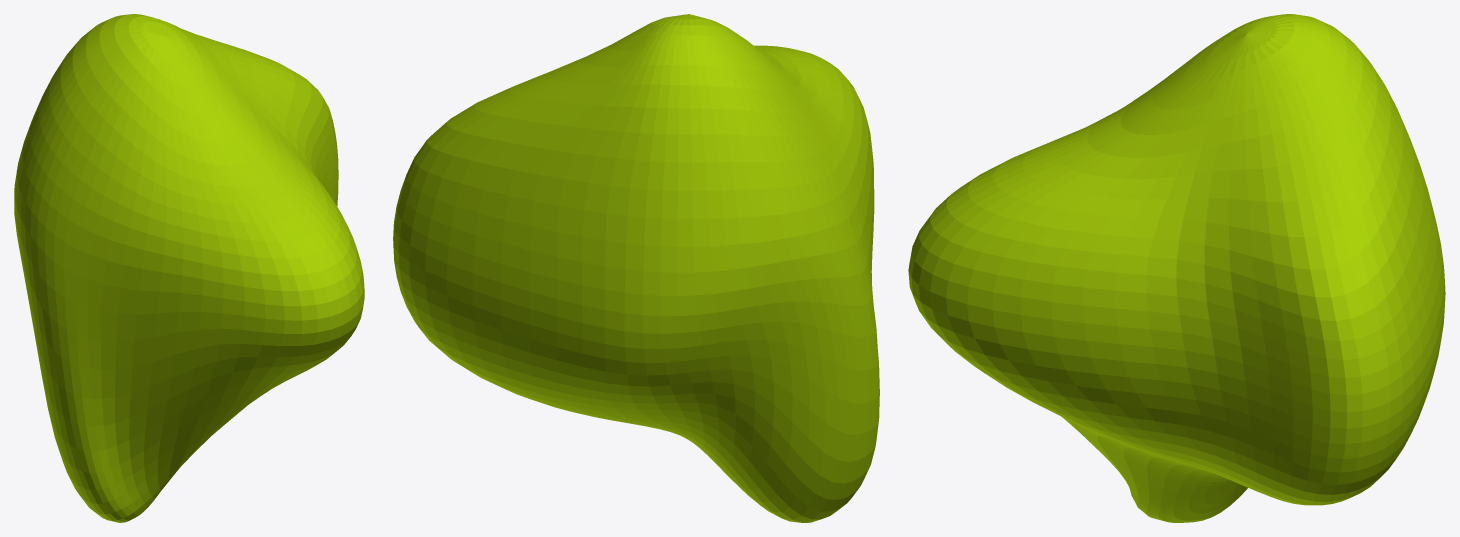
File: bumpy2.obj
3 views of the same model, side by side, from view 1: azimuth 30°, elevation 25°; view 2: azimuth 150°, elevation 25°; view 3: azimuth 270°, elevation 25° (orthographic). The views are drawn at different scales.
Visible parts, largest first — view 1: Sphere; view 2: Sphere; view 3: Sphere.
Part boxes in pixels (left/top/right/bottom): Sphere: left=14, top=14, right=364, bottom=522; Sphere: left=393, top=14, right=879, bottom=522; Sphere: left=908, top=14, right=1445, bottom=522.
Size of the model in its own units: 2.54 by 3.14 by 2.85.
